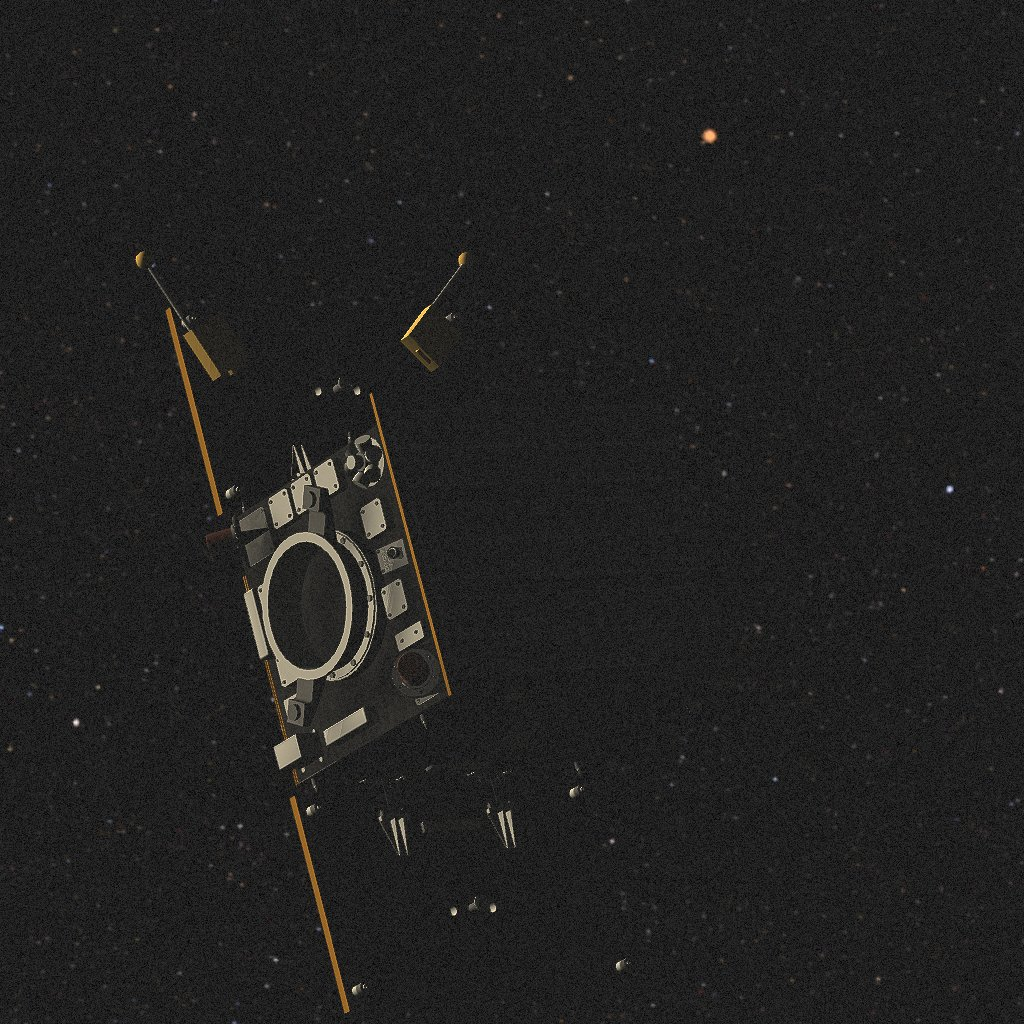proba_2: (136, 251, 760, 1013)
